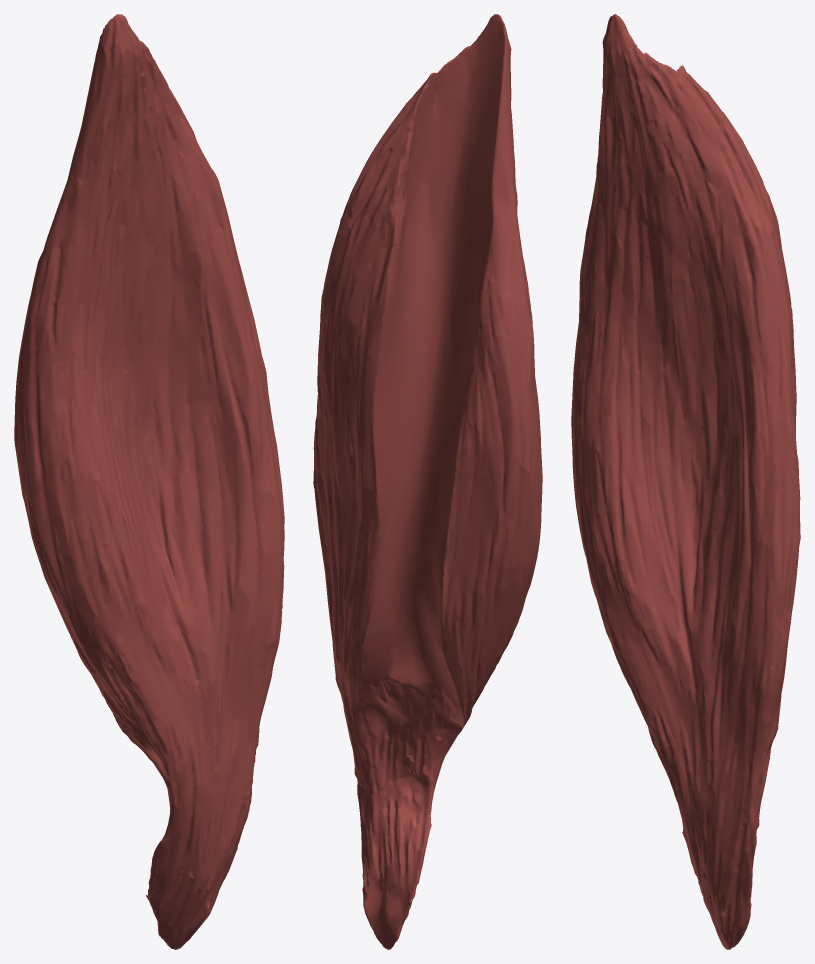
The model's file is FMA37669.glb.
3 renders of one model, left to right at view 1: azimuth 30°, elevation 25°; view 2: azimuth 150°, elevation 25°; view 3: azimuth 330°, elevation 25°, orthographic. The views are drawn at different scales.
Parts seen in each view (by area): view 1: FMA37669; view 2: FMA37669; view 3: FMA37669.
Boxes of the visible parts, bbox=[...] form: FMA37669: bbox=[14, 14, 284, 949]; FMA37669: bbox=[313, 14, 542, 949]; FMA37669: bbox=[571, 14, 800, 949].
Size of the model in its own units: 0.059 by 0.2248 by 0.0268.
